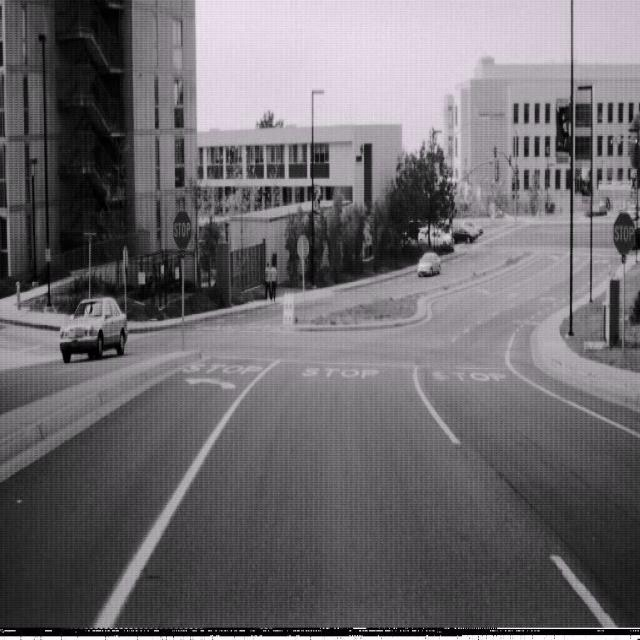stop_sign: (613, 210, 635, 255), (172, 207, 192, 250)
